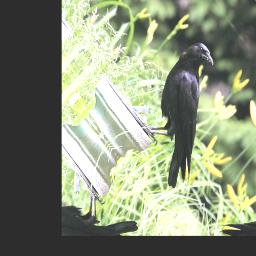Crow: (120, 35, 253, 197)
